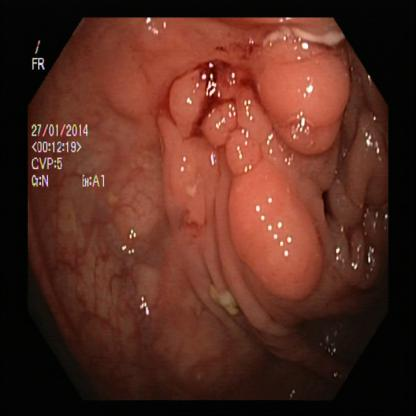Labels: (30, 36, 108, 194)
Polyps: (232, 163, 324, 296), (261, 38, 347, 152), (168, 69, 260, 174)
